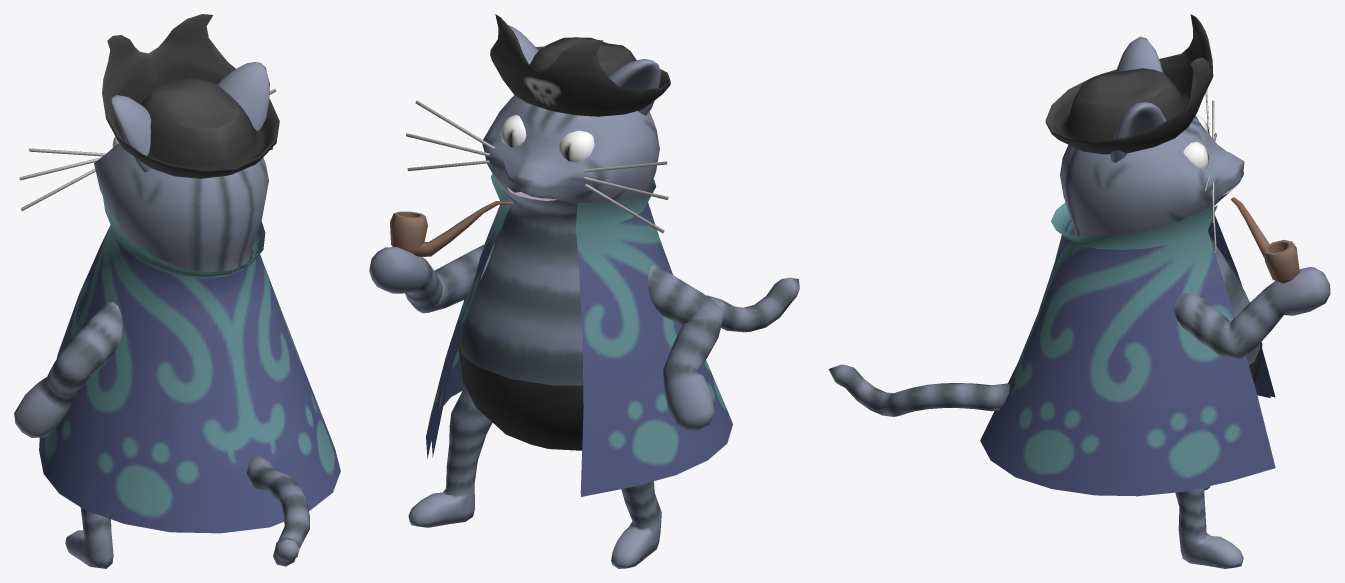
The model's file is neko_idle_a_03.fbx.
3 renders of one model, left to right at view 1: azimuth 30°, elevation 25°; view 2: azimuth 150°, elevation 25°; view 3: azimuth 270°, elevation 25°, orthographic. The views are drawn at different scales.
Visible parts, largest first — view 1: I_a_03; view 2: I_a_03; view 3: I_a_03.
Boxes of the visible parts, x1,y1,x2,y2 form: I_a_03: [14, 14, 340, 568]; I_a_03: [369, 14, 799, 568]; I_a_03: [828, 14, 1330, 568].
Bounding box in the file's own units: 1.12 × 1.94 × 1.81.
Materials: 1 (1 with a texture image).
